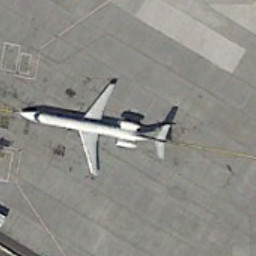Airplane: (15, 75, 183, 184)
